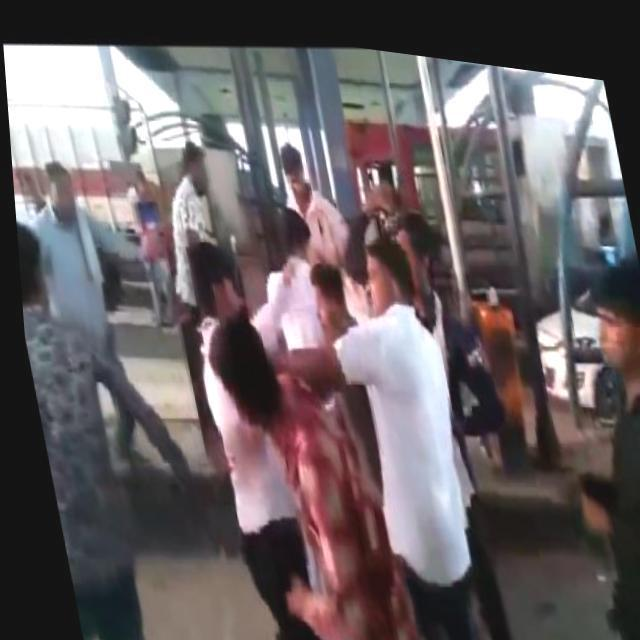fight: (161, 214, 406, 640)
